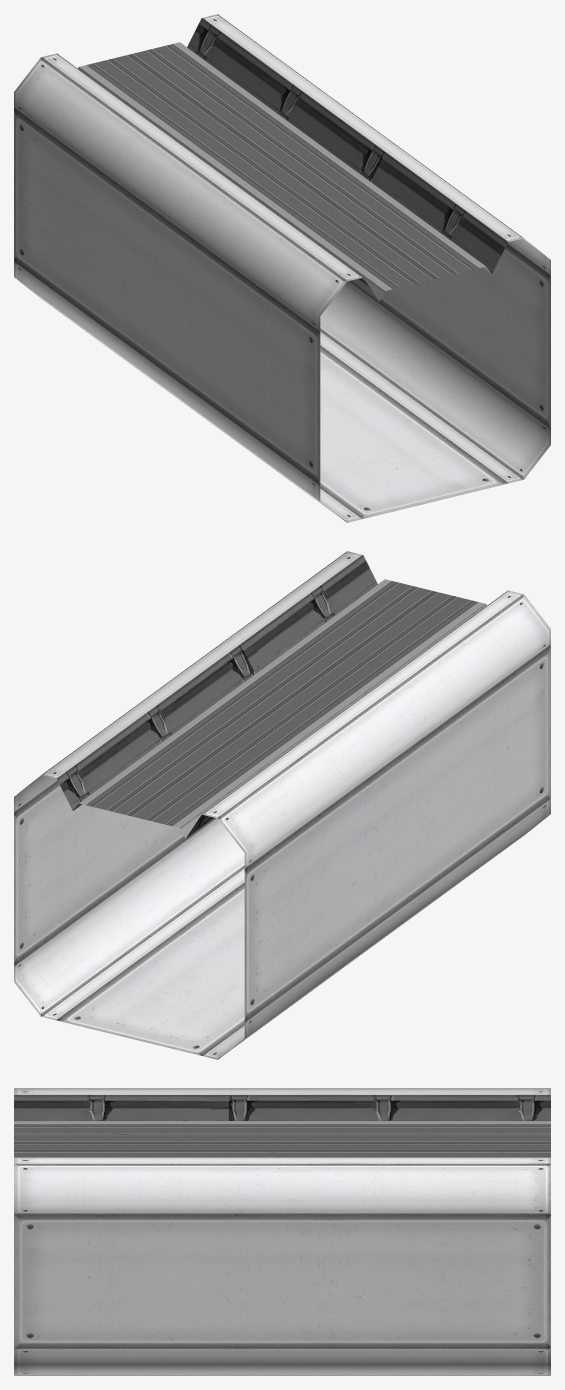
The model's file is CeilingBrace_1x3capped.FBX.
The picture shows the model from 3 angles, top to bottom: view 1: azimuth 30°, elevation 25°; view 2: azimuth 150°, elevation 25°; view 3: azimuth 270°, elevation 25°; orthographic projection. The views are drawn at different scales.
Visible parts, largest first — view 1: CeilingBrace_1x3capped; view 2: CeilingBrace_1x3capped; view 3: CeilingBrace_1x3capped.
Part boxes in pixels (left/top/right/bottom): CeilingBrace_1x3capped: left=14, top=14, right=550, bottom=522; CeilingBrace_1x3capped: left=14, top=551, right=550, bottom=1059; CeilingBrace_1x3capped: left=14, top=1088, right=550, bottom=1375.
Bounding box in the file's own units: 1.3 × 1.3 × 3.
